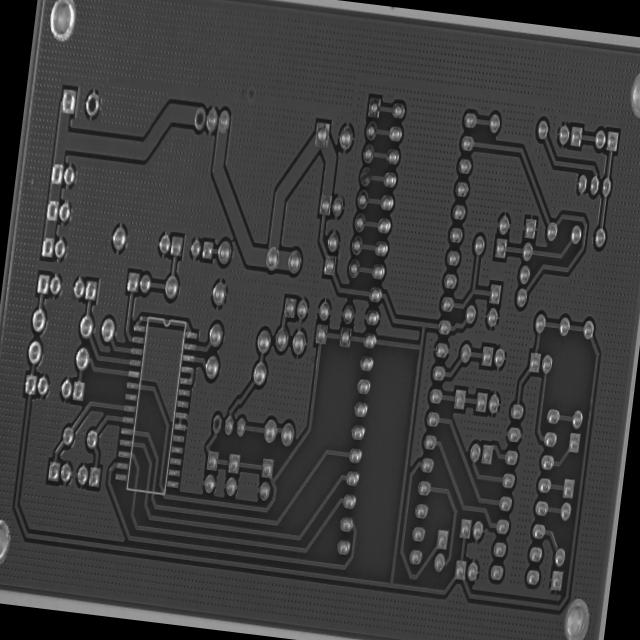missing_hole: (82, 88, 100, 122), (356, 162, 374, 190), (192, 104, 207, 132), (210, 412, 222, 434)
